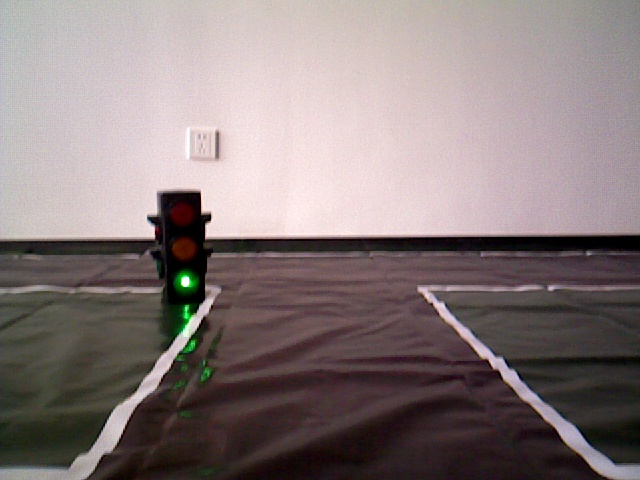green: (155, 195, 206, 302)
